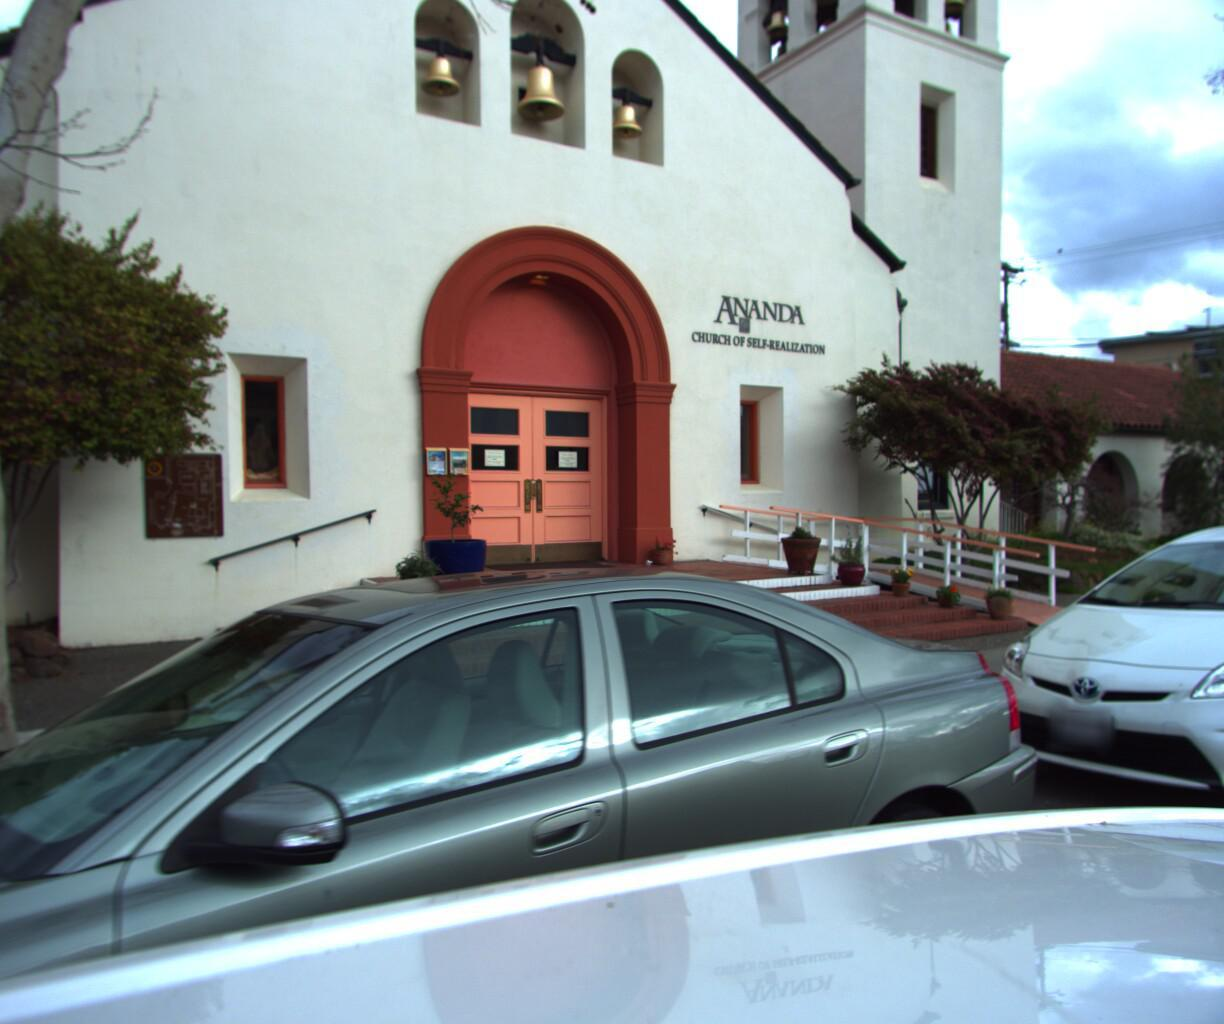car: (0, 523, 1115, 1024), (942, 502, 1224, 878)
